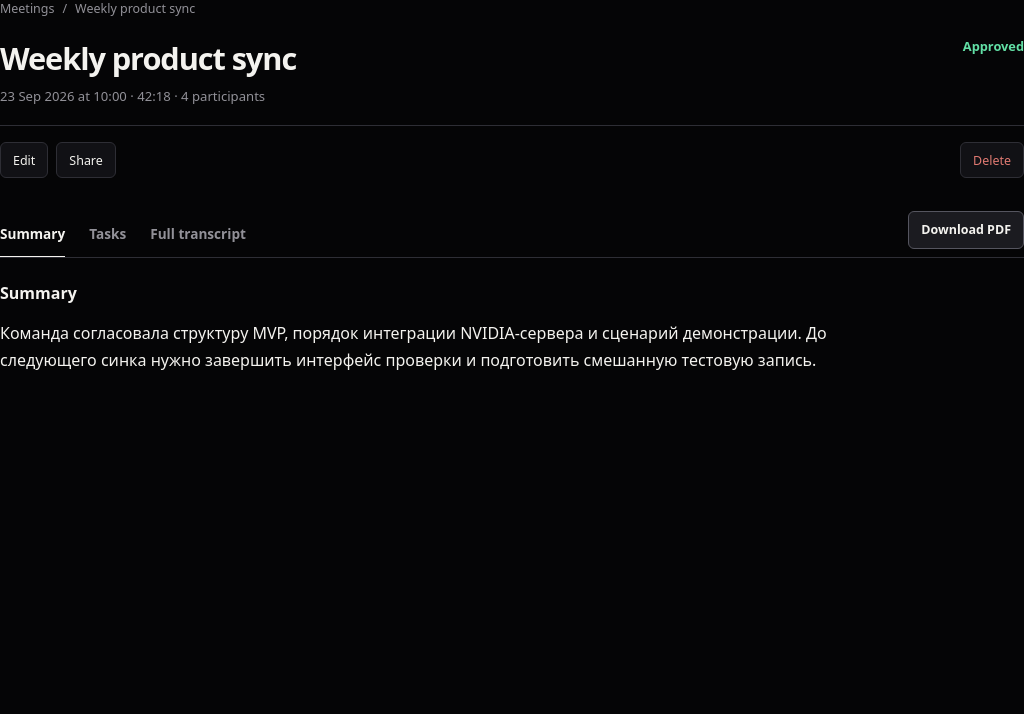
Scenario: MeetingDetailView › separates approved minutes into keyboard-operable tabs
Expected: the panel "Summary" is shown, [0,282,827,371]
Press ArrowRight in the tab "Summary", box [0,210,65,258]
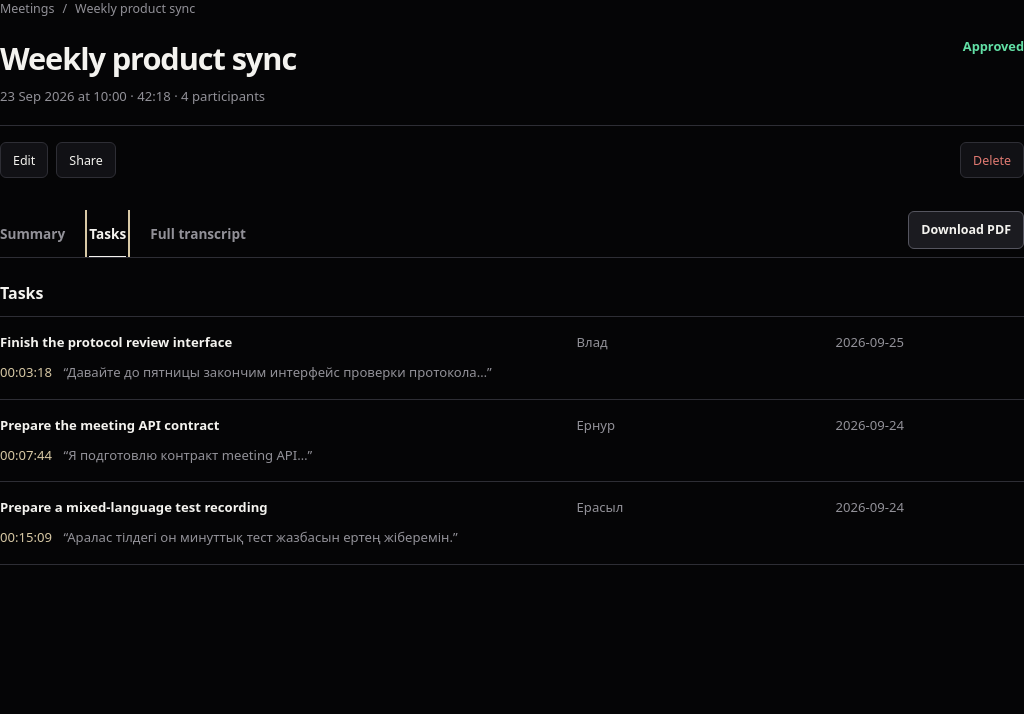
Result: the text "Finish the protocol review interface" is shown at [0,333,232,351]
Click the tab "Full transcript" at (198,234), box [150,210,246,258]
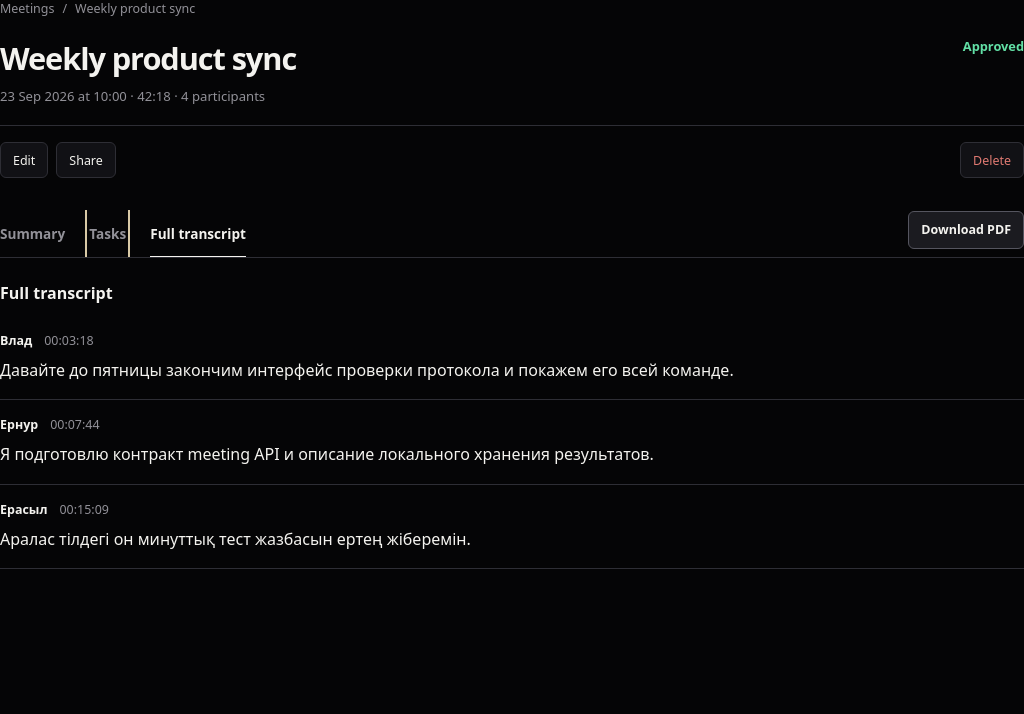
Expected: the button "Download PDF" is enabled, [908,211,1023,249]
Result: the text "Давайте до пятницы закончим интерфейс проверки протокола и покажем его всей команде." is shown at [0,359,734,381]
Click the button "Edit" at (24,160), box [0,142,48,178]
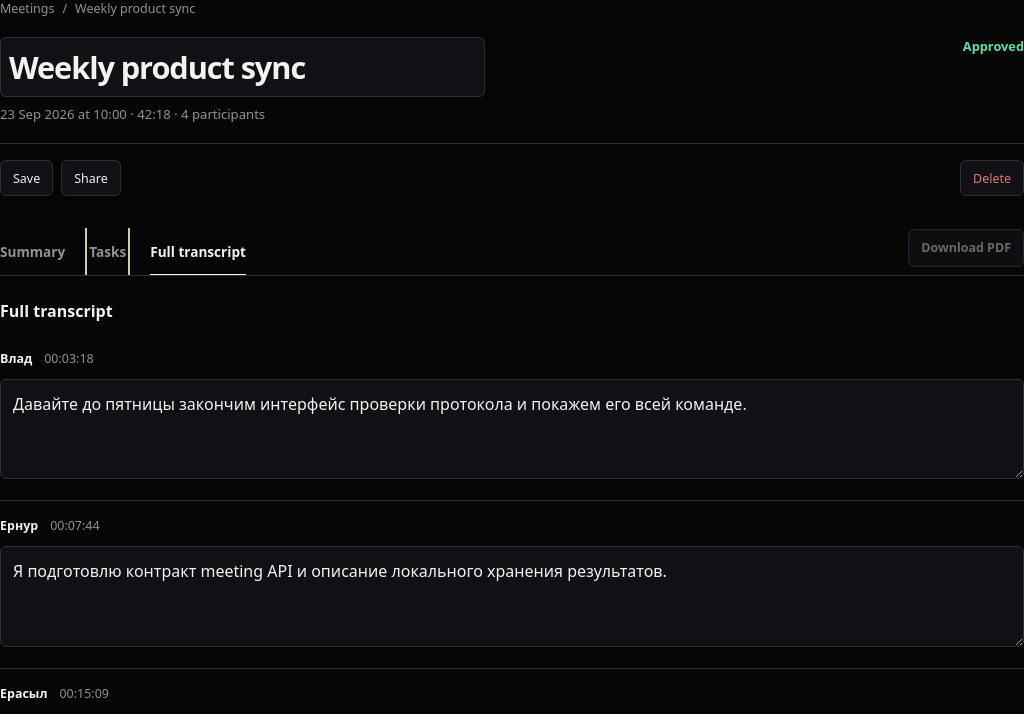
Result: the button "Download PDF" is disabled at [908,229,1023,267]
